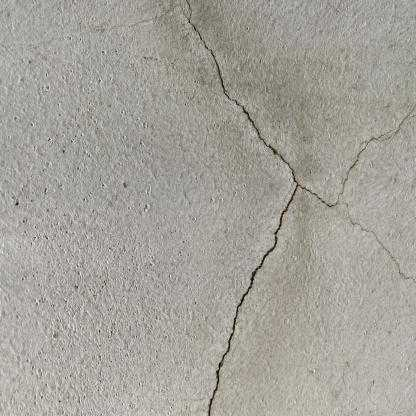crack: (186, 0, 393, 415)
